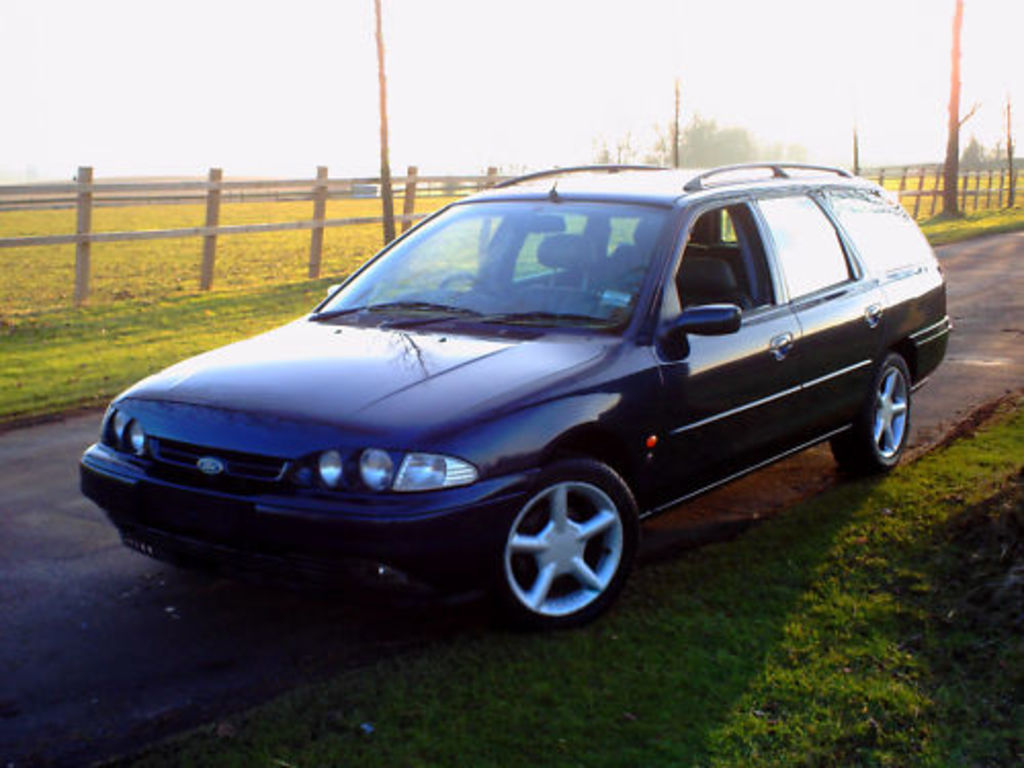Car: (75, 157, 954, 632)
